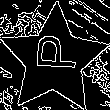P_W: (28, 40, 80, 80)
